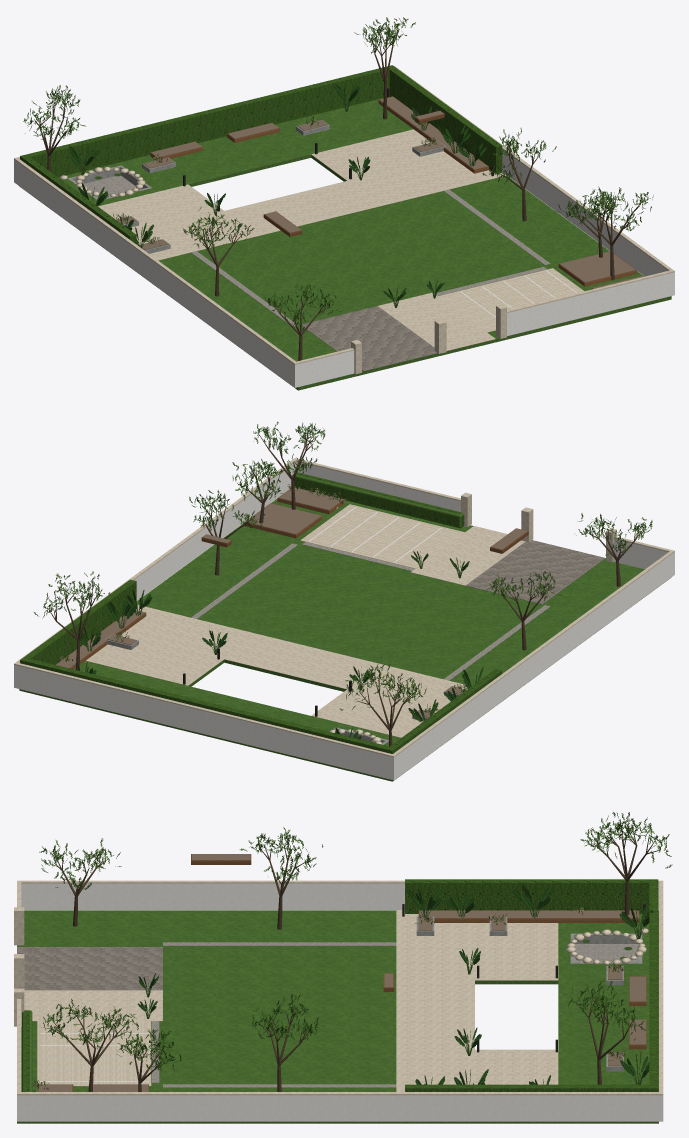
File: LuxuryVilla_Exterior.glb
The picture shows the model from 3 angles, top to bottom: view 1: azimuth 30°, elevation 25°; view 2: azimuth 150°, elevation 25°; view 3: azimuth 270°, elevation 25°; orthographic projection. The views are drawn at different scales.
Visible parts, largest first — view 1: Exterior, KoiPond, Tree_4, Tree_0, Tree_2, Tree_5, Tree_1, Tree_3, Tree_6; view 2: Exterior, Tree_0, Tree_4, Tree_1, Tree_2, Tree_3, Tree_5, Tree_6; view 3: Exterior, KoiPond, Tree_0, Tree_4, Tree_1, Tree_3, Tree_2, Tree_5, Tree_6, Plant_Tropical_2.
Part boxes in pixels (x1,y1,x2,y2): Exterior: (14, 65, 674, 390); KoiPond: (68, 165, 151, 199); Tree_4: (566, 186, 653, 280); Tree_0: (23, 85, 85, 171); Tree_2: (183, 206, 254, 296); Tree_5: (264, 284, 343, 360); Tree_1: (354, 17, 415, 119); Tree_3: (482, 128, 556, 221); Tree_6: (555, 189, 627, 257); Exterior: (14, 458, 674, 781); Tree_0: (340, 656, 426, 746); Tree_4: (253, 421, 325, 509); Tree_1: (34, 571, 109, 670); Tree_2: (487, 571, 562, 650); Tree_3: (189, 490, 264, 575); Tree_5: (574, 513, 652, 586); Tree_6: (232, 459, 283, 523); Exterior: (14, 854, 663, 1123); KoiPond: (566, 929, 646, 964); Tree_0: (580, 812, 672, 915); Tree_4: (41, 999, 138, 1091); Tree_1: (568, 980, 646, 1084); Tree_3: (251, 993, 319, 1091); Tree_2: (239, 827, 323, 929); Tree_5: (39, 838, 121, 926); Tree_6: (116, 1029, 181, 1091); Plant_Tropical_2: (512, 884, 552, 917).
Size of the model in its own units: 36.26 by 9.65 by 45.3.
Materials: 17 (16 with a texture image).
